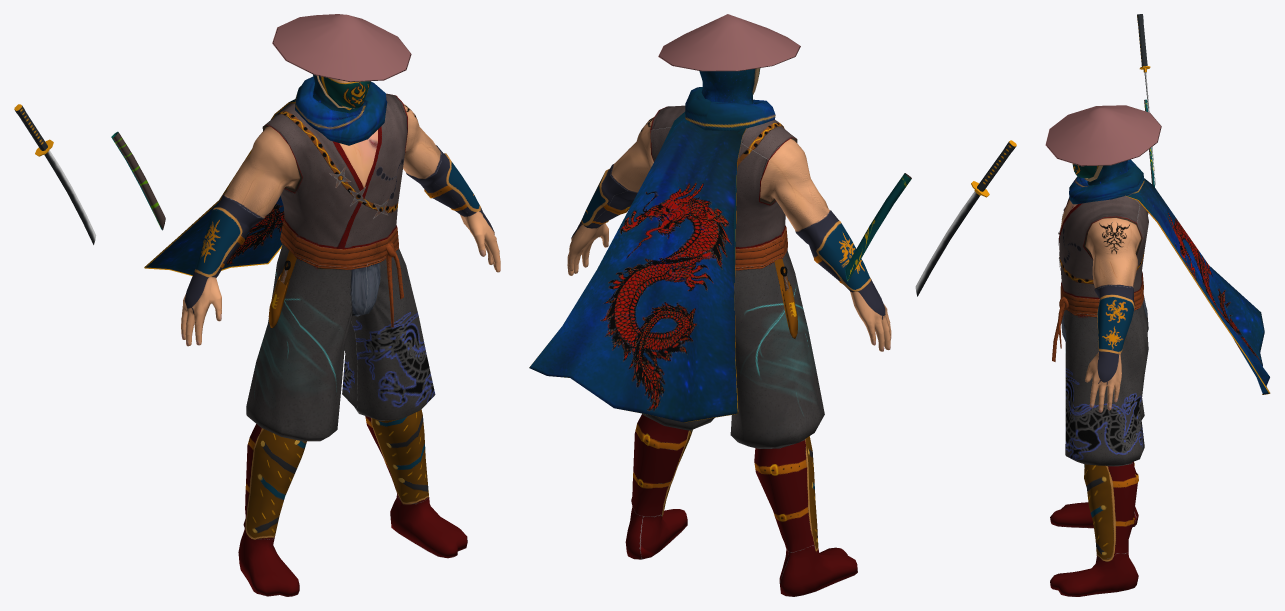
File: Ninja_LowPoly_FBX.fbx
3 views of the same model, side by side, from view 1: azimuth 30°, elevation 25°; view 2: azimuth 150°, elevation 25°; view 3: azimuth 270°, elevation 25° (orthographic). The views are drawn at different scales.
Visible parts, largest first — view 1: polySurface16, polySurface17, polySurface4, polySurface1, polySurface2, polySurface10; view 2: polySurface16, polySurface4, polySurface17, polySurface1, polySurface2, polySurface10; view 3: polySurface16, polySurface17, polySurface4, polySurface1.
Boxes of the visible parts, x1,y1,x2,y2 form: polySurface16: (181,74,500,596); polySurface17: (272,14,411,108); polySurface4: (144,99,295,275); polySurface1: (14,104,96,244); polySurface2: (111,131,165,230); polySurface10: (268,250,296,328); polySurface16: (567,68,891,596); polySurface4: (529,111,746,422); polySurface17: (658,14,800,94); polySurface1: (915,140,1016,296); polySurface2: (845,173,911,281); polySurface10: (774,258,797,338); polySurface16: (1050,159,1148,596); polySurface17: (1045,105,1161,181); polySurface4: (1125,178,1270,394); polySurface1: (1137,14,1155,184).
Size of the model in its own units: 21.01 by 23.47 by 10.69.
